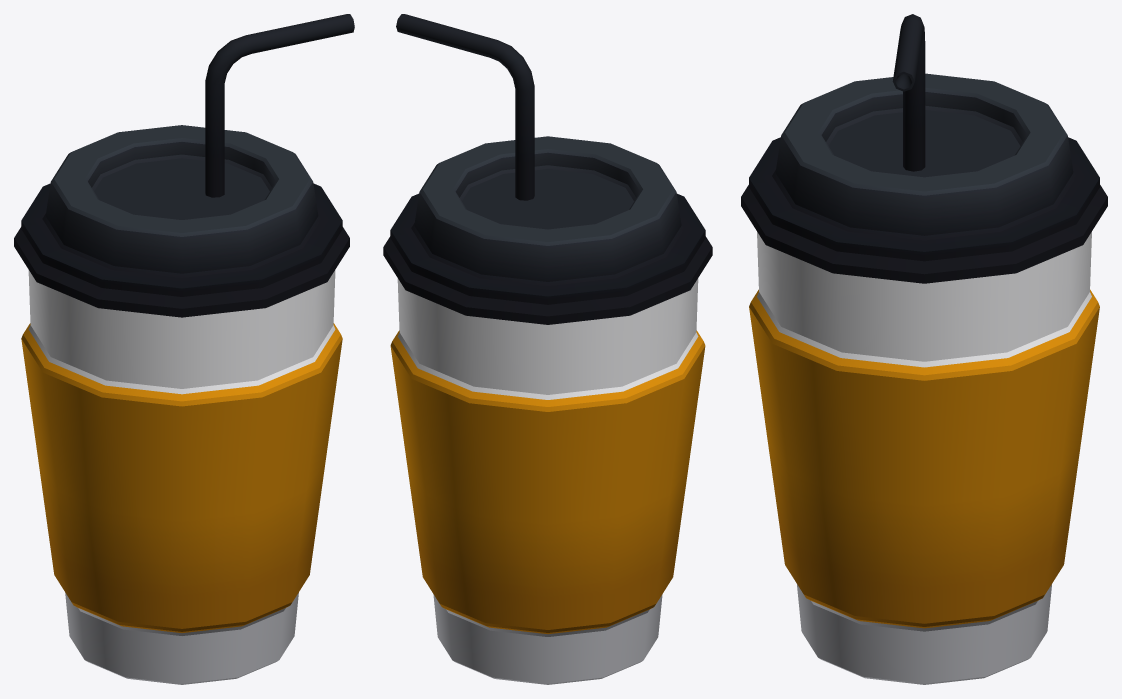
File: Cup_01.fbx
3 views of the same model, side by side, from view 1: azimuth 30°, elevation 25°; view 2: azimuth 150°, elevation 25°; view 3: azimuth 270°, elevation 25° (orthographic). The views are drawn at different scales.
Parts seen in each view (by area): view 1: Cup_01, Rhsirf_01, Straw_01; view 2: Cup_01, Rhsirf_01, Straw_01; view 3: Cup_01, Rhsirf_01, Straw_01.
Boxes of the visible parts, x1,y1,x2,y2 form: Cup_01: (21,270,342,684); Rhsirf_01: (14,125,349,317); Straw_01: (205,14,354,197); Cup_01: (390,278,705,684); Rhsirf_01: (383,136,712,324); Straw_01: (396,14,534,200); Cup_01: (749,232,1099,684); Rhsirf_01: (741,73,1107,283); Straw_01: (892,14,925,171).
Size of the model in its own units: 114 by 212 by 109.
